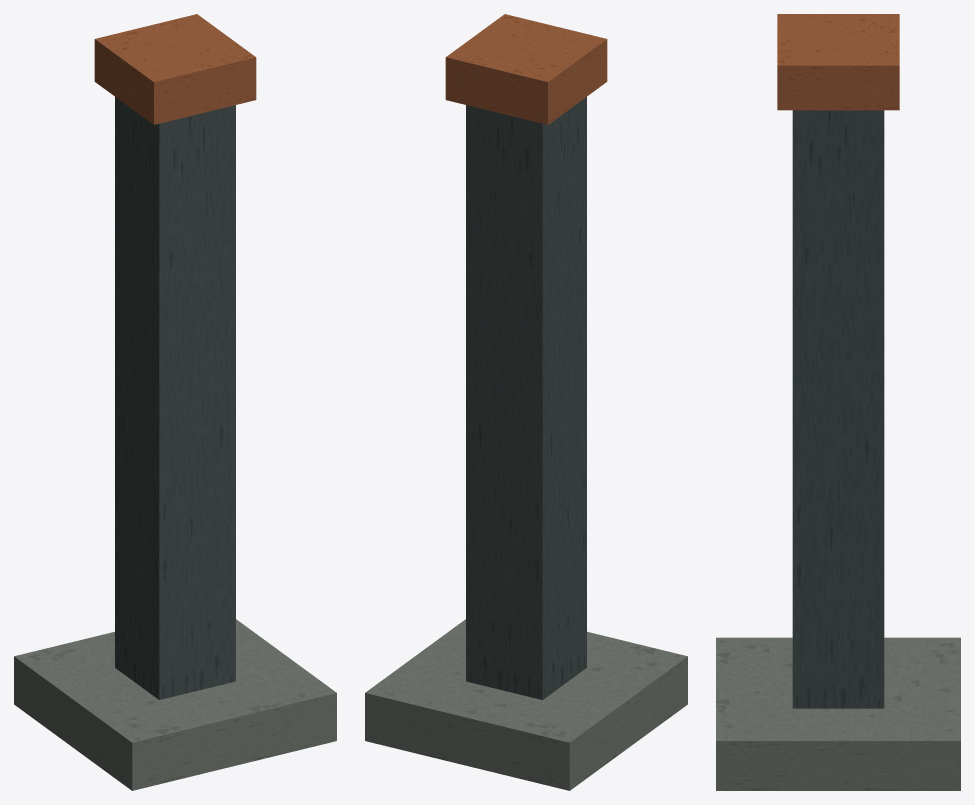
File: RailPost.fbx
3 views of the same model, side by side, from view 1: azimuth 30°, elevation 25°; view 2: azimuth 150°, elevation 25°; view 3: azimuth 270°, elevation 25° (orthographic). The views are drawn at different scales.
Parts seen in each view (by area): view 1: RailPost; view 2: RailPost; view 3: RailPost.
Part boxes in pixels (box(x1,y1,x2,y2)): RailPost: box(14, 14, 336, 790); RailPost: box(365, 14, 687, 790); RailPost: box(716, 14, 960, 790).
Size of the model in its own units: 40 by 126 by 40.
